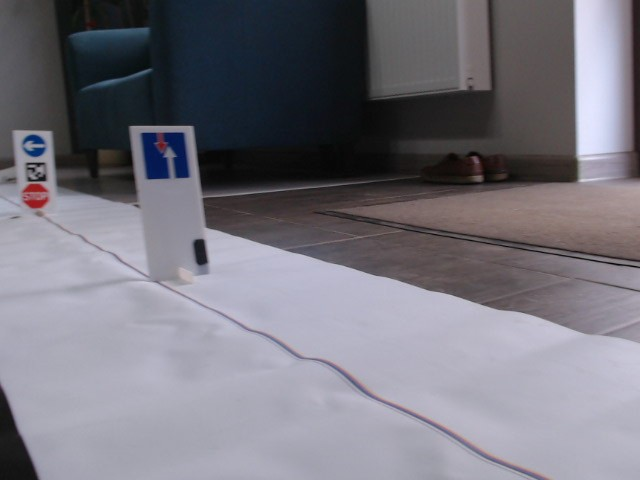Stop: (21, 183, 50, 209)
priority_movement: (137, 131, 191, 181)
